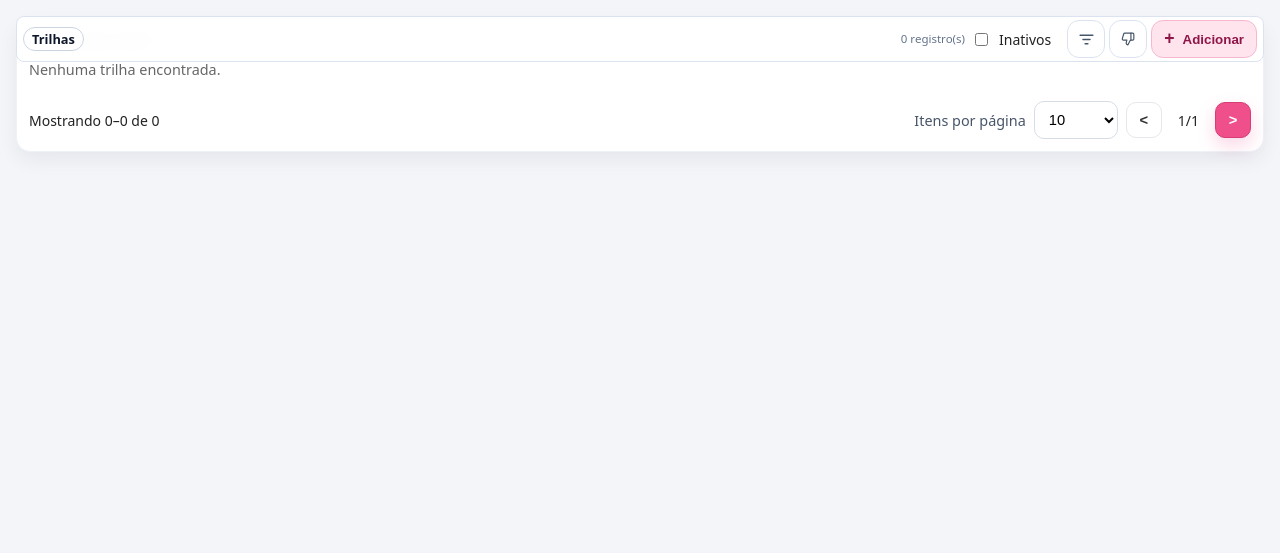
Test: Trilhas Page › filtra trilhas por nome usando drawer
Click the button named "Abrir filtros".
click(1086, 39)  # box [1067,20,1105,58]
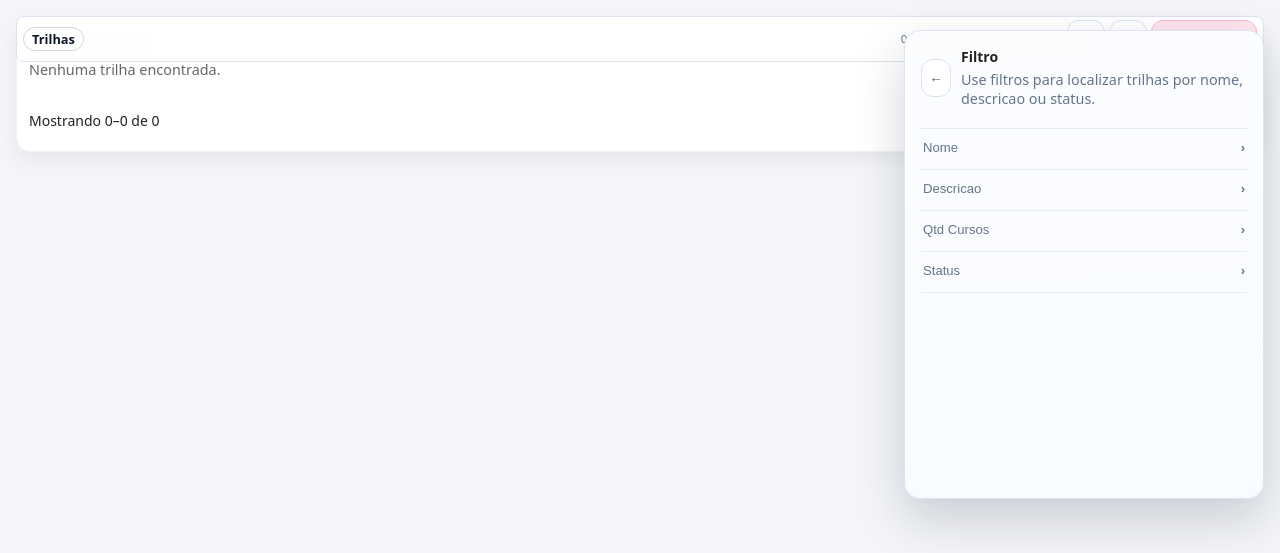
Result: the button "Nome ›" is shown at [921,129,1247,170]
Result: the button "Descricao ›" is shown at [921,170,1247,211]
Result: the button "Qtd Cursos ›" is shown at [921,211,1247,252]
